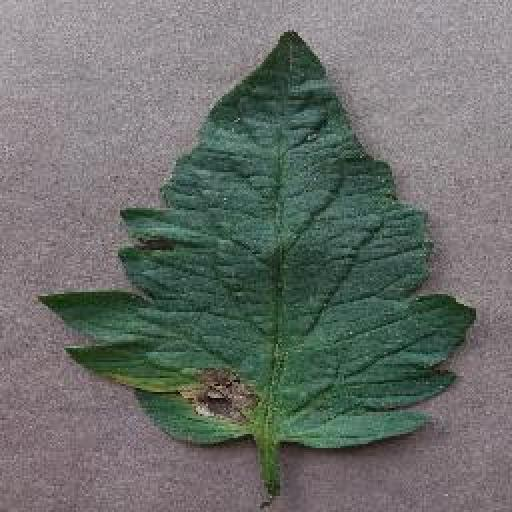disease_tomato: (40, 27, 478, 449)
